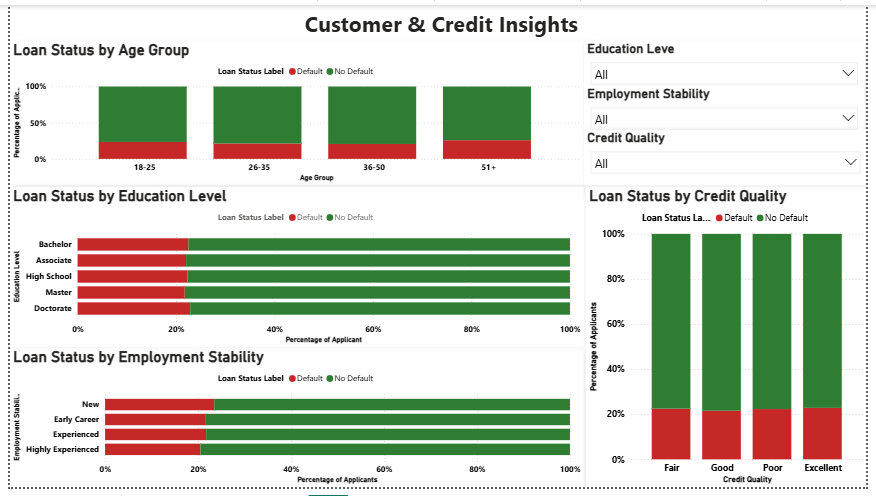

The page's visual inventory and layout, read from the dashboard file:
{"tool":"powerbi","page":{"name":"  Customer & Credit Insights","canvas":[1280,720],"ordinal":1},"visuals":[{"type":"textbox","box":[0,0,1280,53.8],"z":0},{"type":"hundredPercentStackedColumnChart","title":"Loan Status by Age Group","fields":{"Category":["banking_loan_risk_engineered.age_group"],"Y":["CountNonNull(banking_loan_risk_engineered.loan_status)"],"Series":["banking_loan_risk_engineered.Loan Status Label"]},"box":[0,53.8,857.4,215.1],"z":1000},{"type":"hundredPercentStackedBarChart","title":"Loan Status by Employment Stability","fields":{"Category":["banking_loan_risk_engineered.employment_stability_group"],"Y":["CountNonNull(banking_loan_risk_engineered.loan_status)"],"Series":["banking_loan_risk_engineered.Loan Status Label"]},"box":[0,512.4,857.4,207.6],"z":2000},{"type":"hundredPercentStackedBarChart","title":"Loan Status by Education Level","fields":{"Category":["banking_loan_risk_engineered.person_education"],"Y":["CountNonNull(banking_loan_risk_engineered.loan_status)"],"Series":["banking_loan_risk_engineered.Loan Status Label"]},"box":[0,271.9,857.4,239],"z":3000},{"type":"hundredPercentStackedColumnChart","title":"Loan Status by Credit Quality","fields":{"Category":["banking_loan_risk_engineered.credit_quality_segment"],"Y":["CountNonNull(banking_loan_risk_engineered.loan_status)"],"Series":["banking_loan_risk_engineered.Loan Status Label"]},"box":[860.4,271.9,419.8,448.1],"z":4000},{"type":"slicer","title":"Education Leve","fields":{"Values":["banking_loan_risk_engineered.person_education"]},"box":[857.4,53.8,419,70.2],"z":5000},{"type":"slicer","title":"Employment Stability","fields":{"Values":["banking_loan_risk_engineered.employment_stability_group"]},"box":[857.4,121,419,65.7],"z":6000},{"type":"slicer","title":"Credit Quality","fields":{"Values":["banking_loan_risk_engineered.credit_quality_segment"]},"box":[857.4,186.7,422.7,82.2],"z":7000}]}

Visuals, with their boxes in screenshot pixels (x1, y1, x2, y2), scaled from the page's 1280x720 canvas onto the 876x496 screenshot:
textbox: crop(0, 0, 875, 37)
"Loan Status by Age Group" hundredPercentStackedColumnChart: crop(0, 37, 587, 185)
"Loan Status by Employment Stability" hundredPercentStackedBarChart: crop(0, 353, 587, 495)
"Loan Status by Education Level" hundredPercentStackedBarChart: crop(0, 187, 587, 352)
"Loan Status by Credit Quality" hundredPercentStackedColumnChart: crop(589, 187, 875, 495)
"Education Leve" slicer: crop(587, 37, 874, 85)
"Employment Stability" slicer: crop(587, 83, 874, 129)
"Credit Quality" slicer: crop(587, 129, 875, 185)
